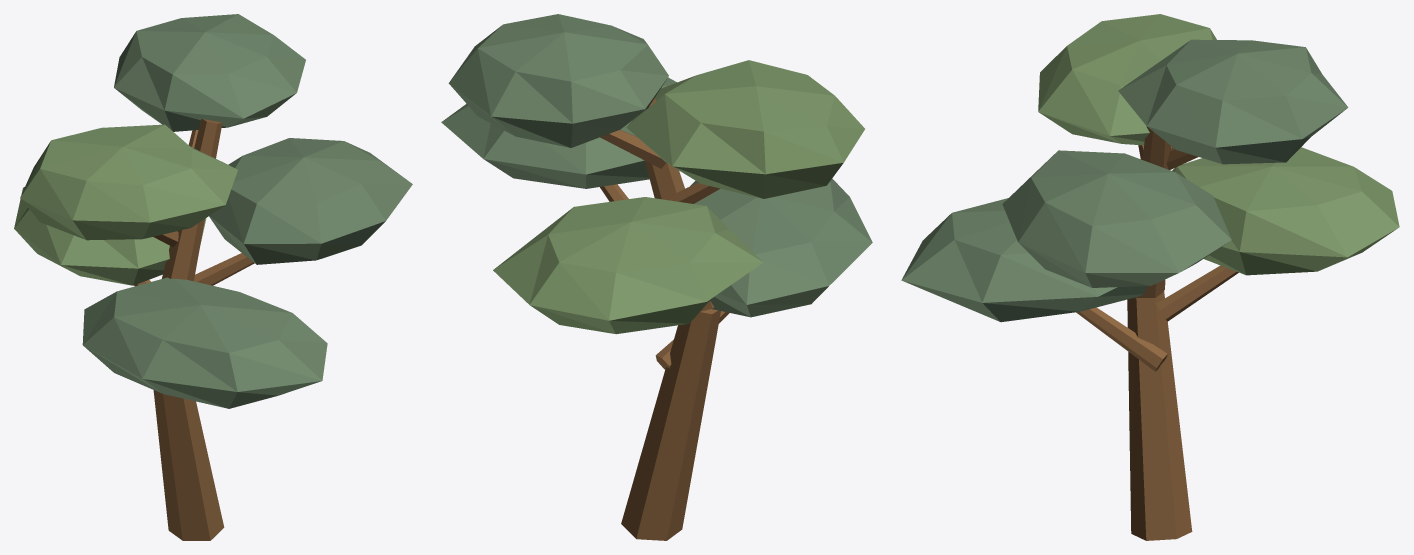
File: komachi-matsu.glb
3 views of the same model, side by side, from view 1: azimuth 30°, elevation 25°; view 2: azimuth 150°, elevation 25°; view 3: azimuth 270°, elevation 25° (orthographic). The views are drawn at different scales.
Parts seen in each view (by area): view 1: Komachi_matsu; view 2: Komachi_matsu; view 3: Komachi_matsu.
Part boxes in pixels (box(x1,y1,x2,y2)): Komachi_matsu: box(14, 14, 412, 540); Komachi_matsu: box(441, 14, 872, 540); Komachi_matsu: box(901, 14, 1399, 540).
Bounding box in the file's own units: 0.6878 × 0.853 × 0.7653.
